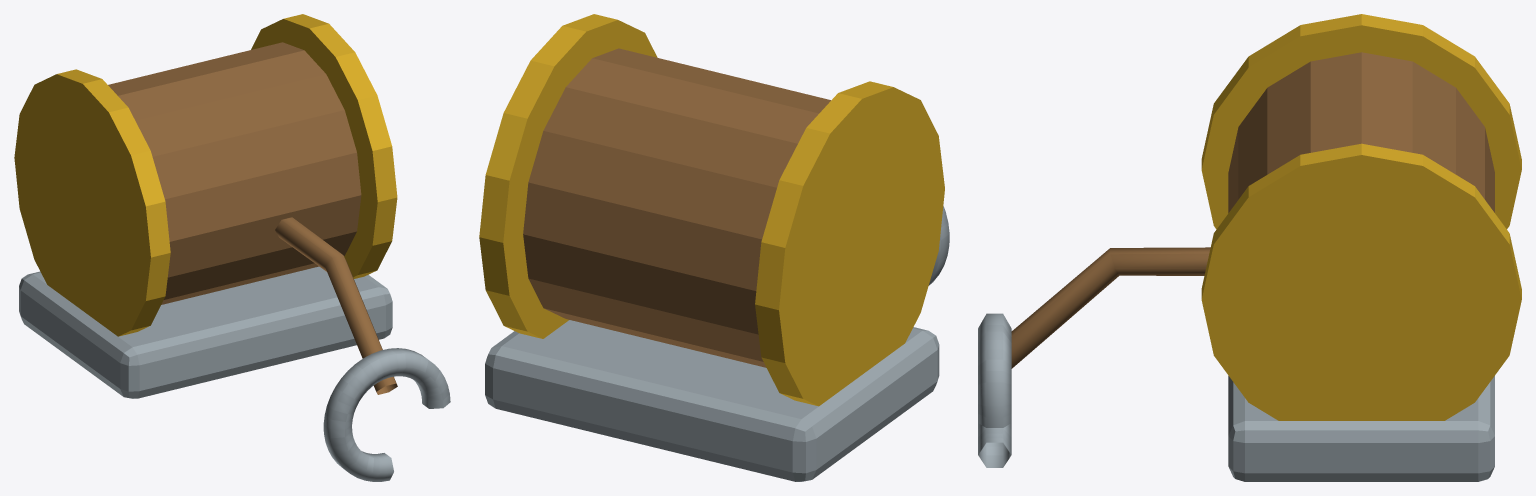
The model's file is tow-reel.glb.
3 views of the same model, side by side, from view 1: azimuth 30°, elevation 25°; view 2: azimuth 150°, elevation 25°; view 3: azimuth 270°, elevation 25° (orthographic). The views are drawn at different scales.
Parts seen in each view (by area): view 1: frame; view 2: frame; view 3: frame.
Part boxes in pixels (x1,y1,x2,y2): frame: (14, 14, 450, 481); frame: (479, 14, 949, 481); frame: (978, 14, 1521, 481).
Bounding box in the file's own units: 0.55 × 0.6116 × 0.815.
